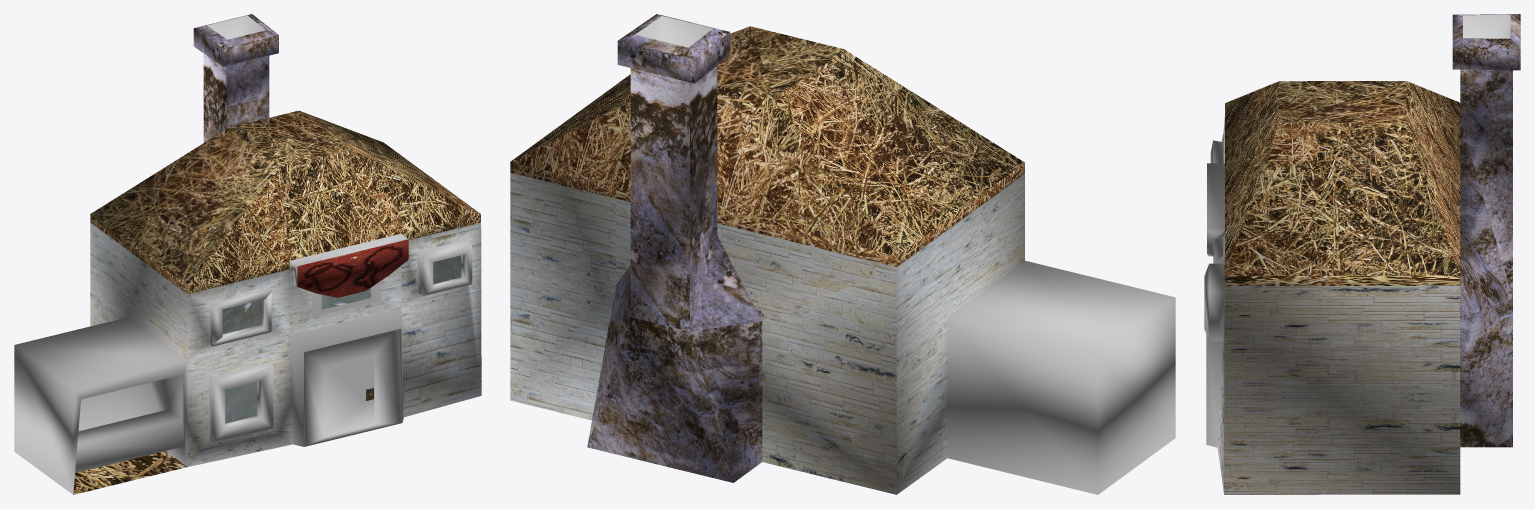
File: tavern.fbx
3 views of the same model, side by side, from view 1: azimuth 30°, elevation 25°; view 2: azimuth 150°, elevation 25°; view 3: azimuth 270°, elevation 25° (orthographic). The views are drawn at different scales.
Visible parts, largest first — view 1: Mesh_001, Mesh; view 2: Mesh_001; view 3: Mesh_001.
Part boxes in pixels (left/top/right/bottom): Mesh_001: left=14, top=14, right=481, bottom=494; Mesh: left=222, top=255, right=460, bottom=423; Mesh_001: left=510, top=14, right=1175, bottom=494; Mesh_001: left=1204, top=14, right=1520, bottom=494.
Bounding box in the file's own units: 14.87 × 11.22 × 8.28.
